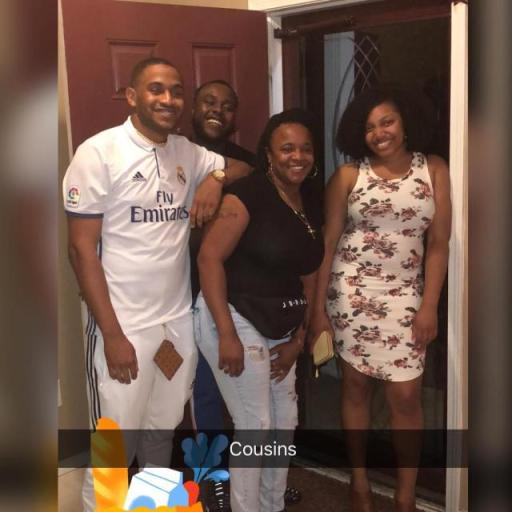Adidas: (131, 169, 147, 182)
Emirates: (128, 190, 194, 224)
